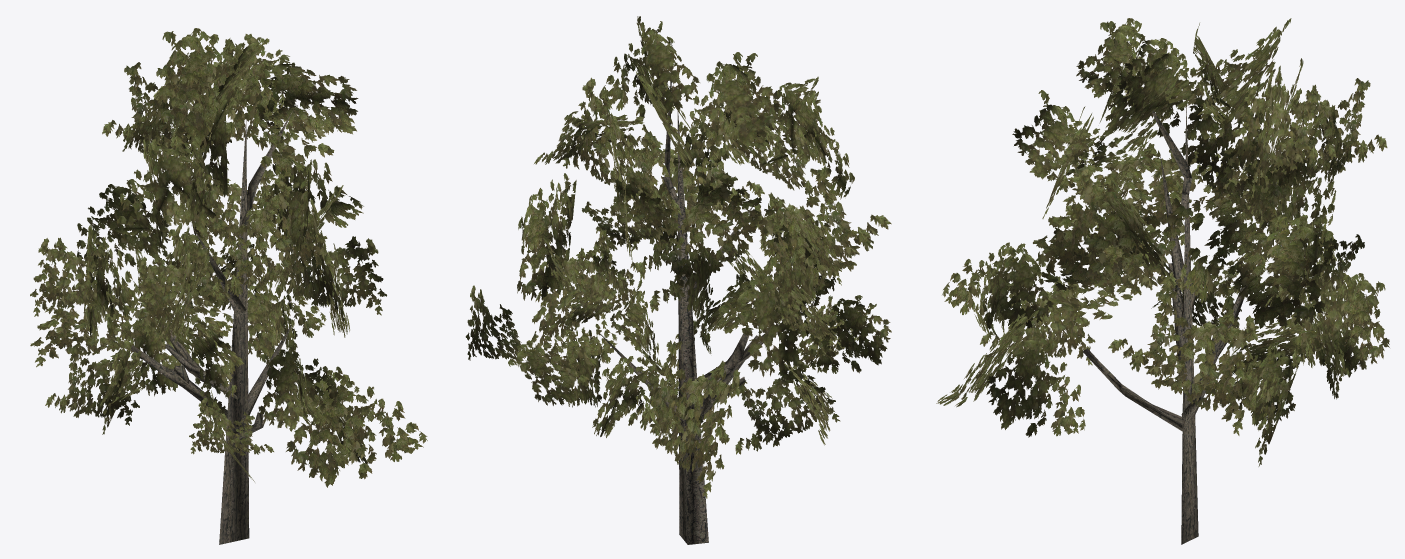
File: Vegetation_Tree02_lod2.glb
3 views of the same model, side by side, from view 1: azimuth 30°, elevation 25°; view 2: azimuth 150°, elevation 25°; view 3: azimuth 270°, elevation 25° (orthographic). The views are drawn at different scales.
Visible parts, largest first — view 1: zw_tree02_lod2_0; view 2: zw_tree02_lod2_0; view 3: zw_tree02_lod2_0.
Boxes of the visible parts, x1=… form: zw_tree02_lod2_0: x1=30, y1=28, x2=427, y2=544; zw_tree02_lod2_0: x1=465, y1=16, x2=891, y2=544; zw_tree02_lod2_0: x1=936, y1=18, x2=1389, y2=544.
Bounding box in the file's own units: 18.97 × 24.16 × 19.27.
2 materials, 2 textured.
